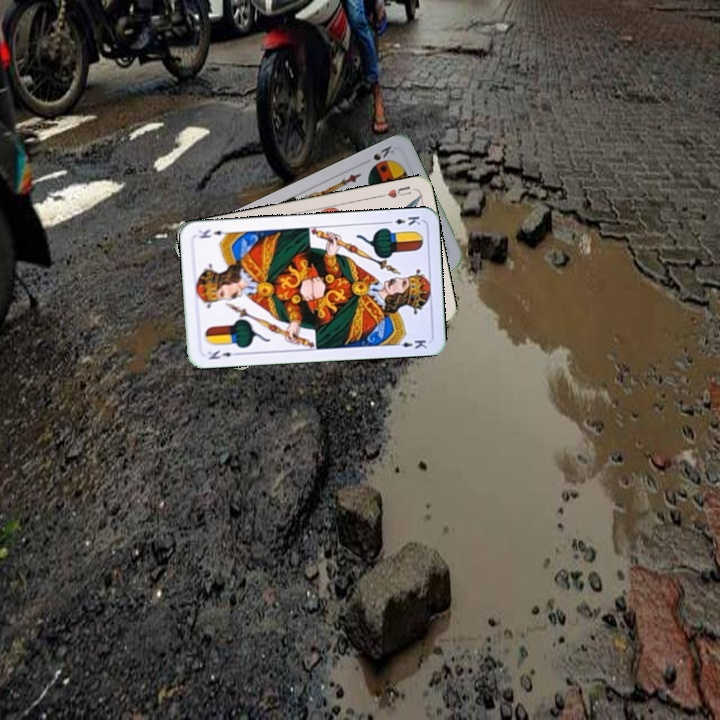EK: (382, 212, 423, 228), (203, 346, 242, 362)
HU: (376, 182, 414, 201)
SK: (369, 142, 397, 163)
